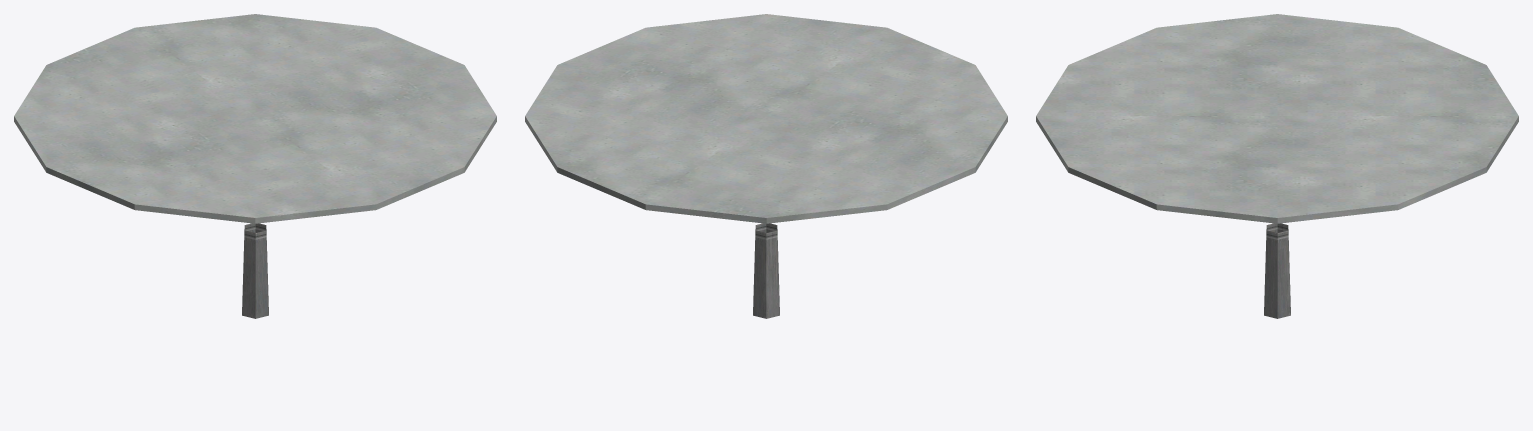
The model's file is frn_all_mdrn_table_s01_l1.fbx.
3 views of the same model, side by side, from view 1: azimuth 30°, elevation 25°; view 2: azimuth 150°, elevation 25°; view 3: azimuth 270°, elevation 25° (orthographic).
Visible parts, largest first — view 1: mesh_node; view 2: mesh_node; view 3: mesh_node.
Boxes of the visible parts, bbox=[...] form: mesh_node: bbox=[14, 14, 496, 318]; mesh_node: bbox=[525, 14, 1007, 318]; mesh_node: bbox=[1036, 14, 1518, 318].
Size of the model in its own units: 1.52 by 0.89 by 1.52.
